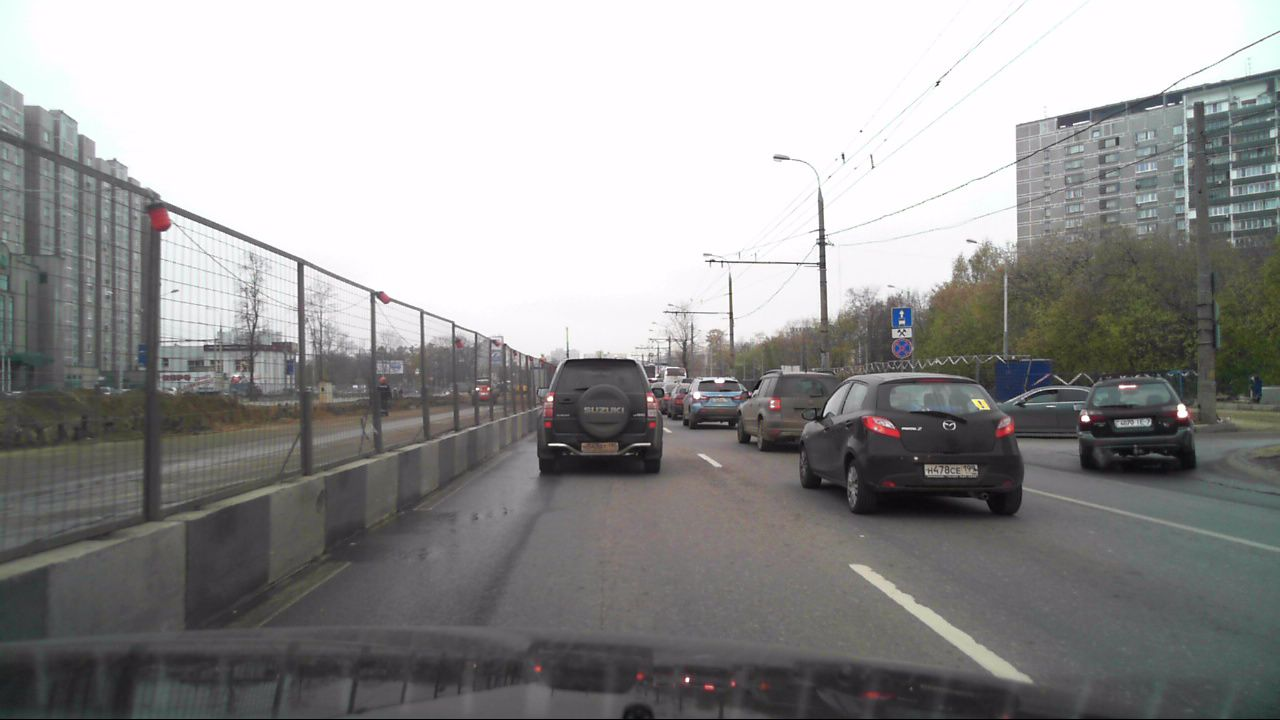No Parking: (891, 339, 912, 358)
